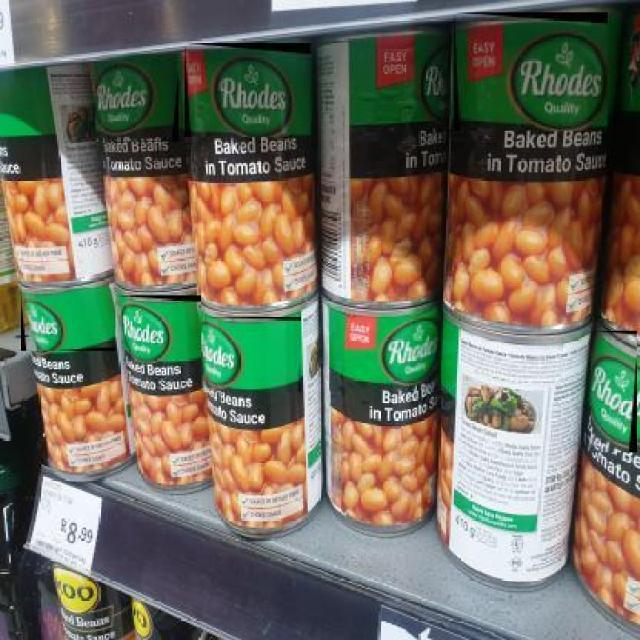Beans: (454, 13, 610, 133), (185, 43, 313, 139), (328, 313, 446, 393), (200, 317, 302, 394), (95, 54, 179, 143), (20, 288, 117, 352), (116, 296, 202, 367), (591, 331, 639, 454)
